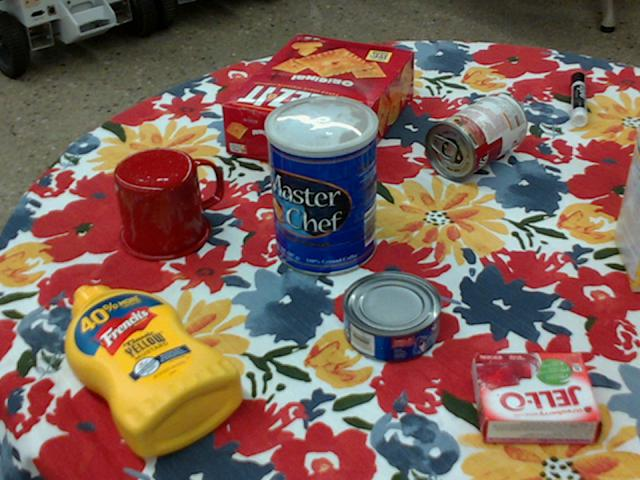cracker_box: (223, 34, 416, 177)
gelatin_box: (475, 353, 604, 444)
large_marker: (572, 72, 587, 125)
master_chef_can: (263, 94, 377, 276)
mug: (113, 147, 221, 261)
mustard_bottle: (65, 285, 243, 456)
potted_meat_can: (636, 147, 639, 170)
sugar_box: (614, 127, 639, 292)
tomato_soup_can: (426, 90, 528, 180)
tuna_fish_can: (342, 272, 442, 363)
